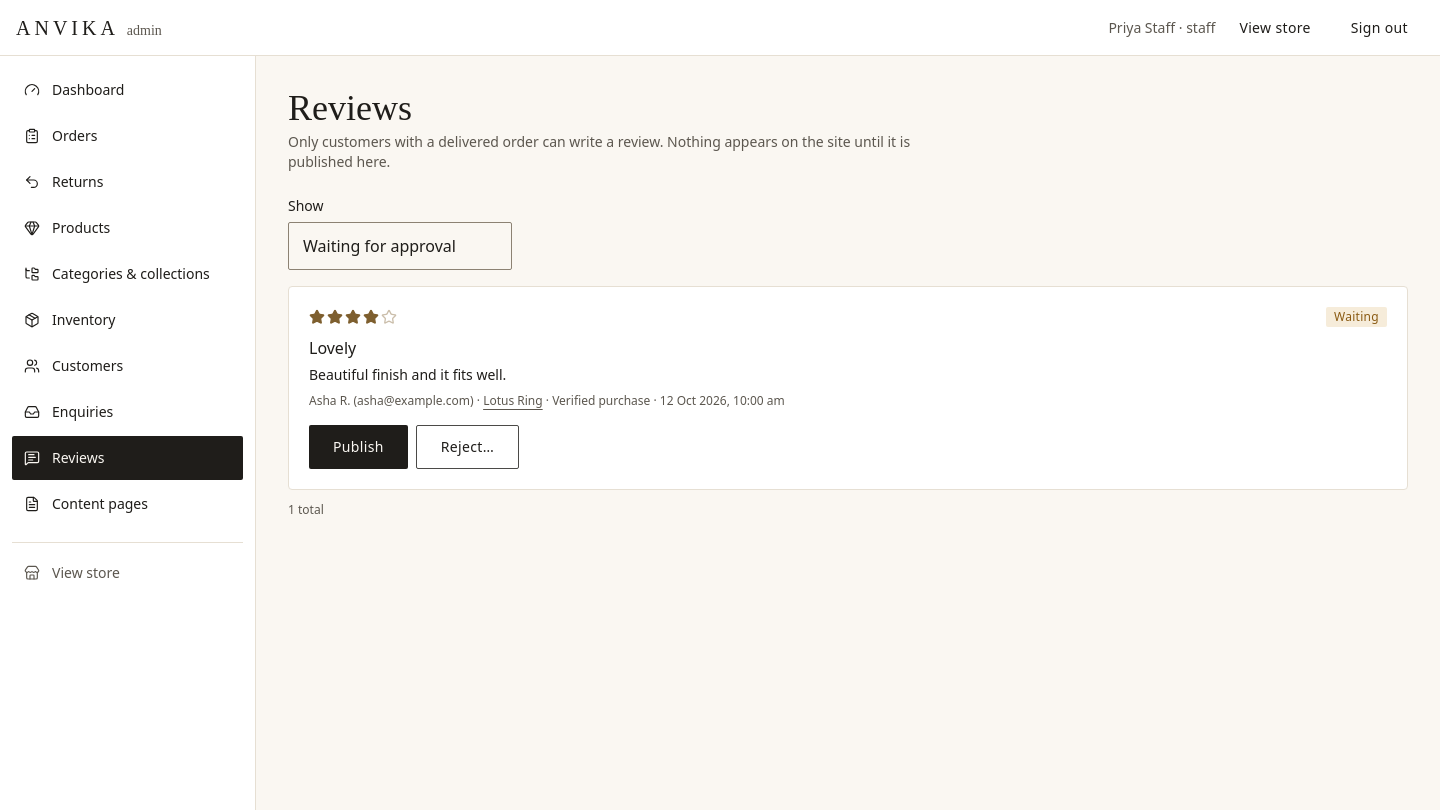
Test case: review moderation › publishes a pending review
Expected: the text "Lovely" is shown, [309, 337, 356, 359]
Expected: the picture named "4 out of 5 stars" is shown, [309, 309, 397, 325]
Click the button "Publish" at (358, 447), box [309, 425, 408, 469]
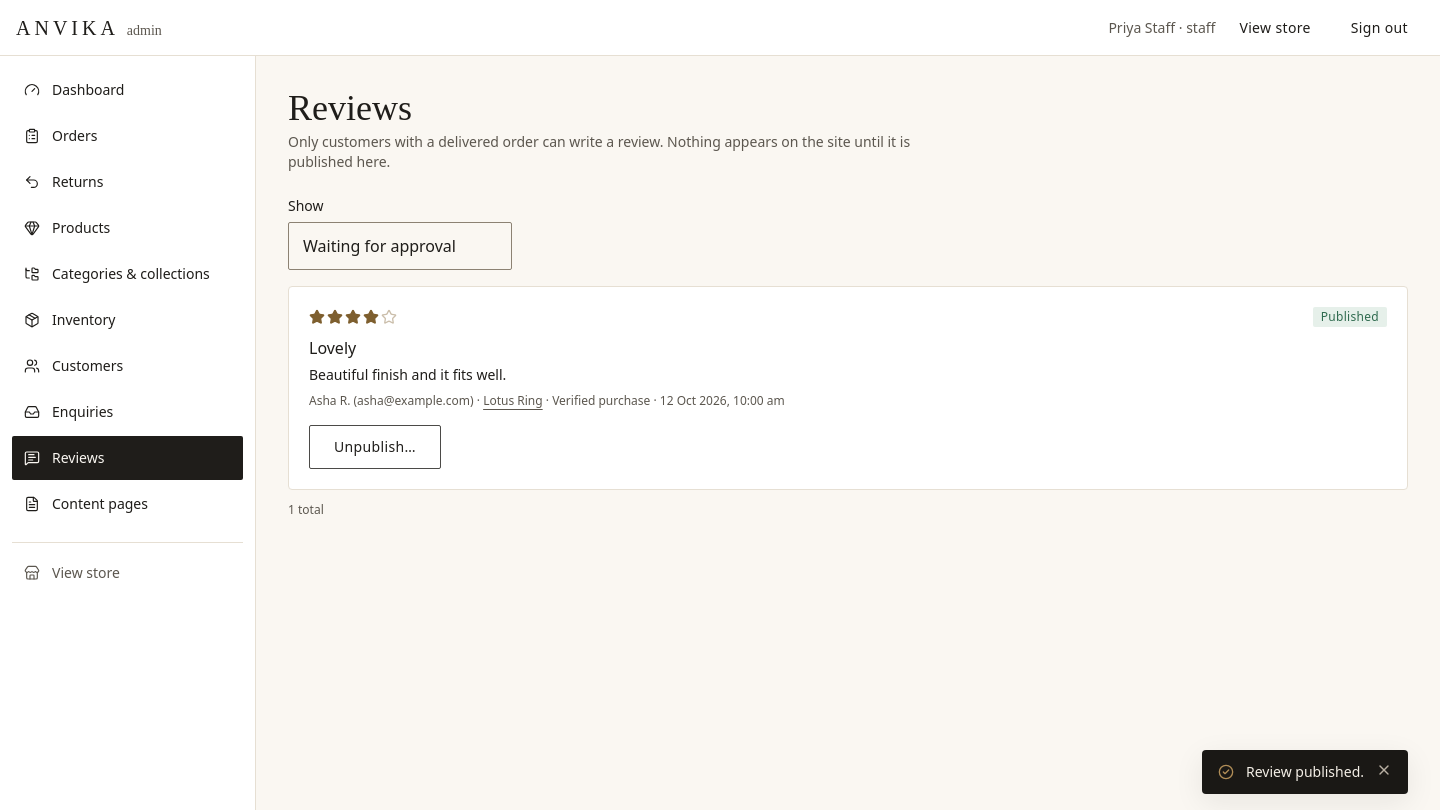
Expected: the button "Unpublish…" is shown, [309, 425, 441, 469]
